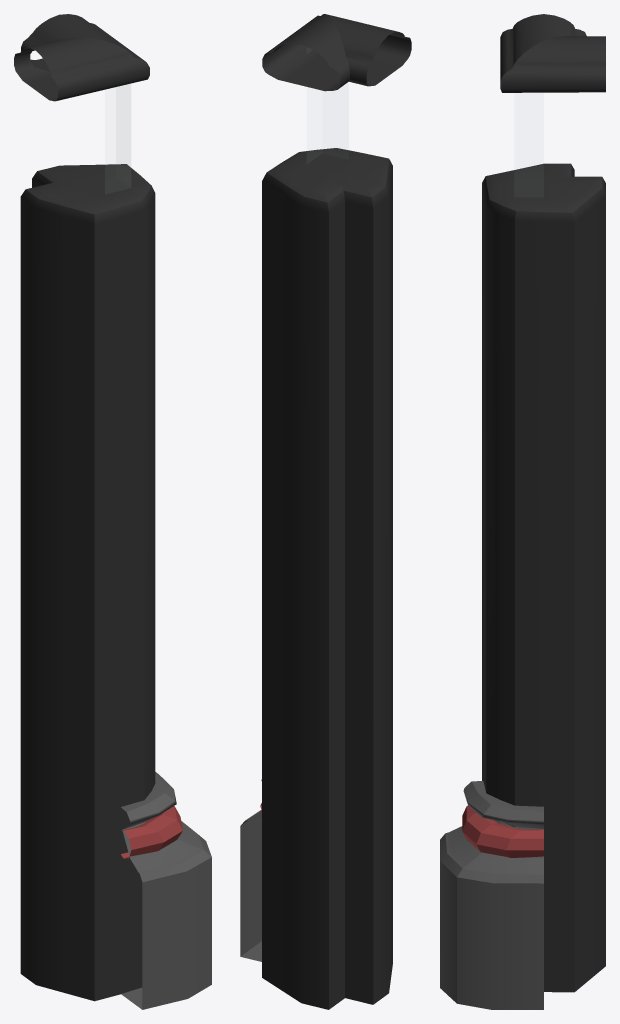
Rendered from BarrierCorner.fbx.
The picture shows the model from 3 angles, left to right: view 1: azimuth 30°, elevation 25°; view 2: azimuth 150°, elevation 25°; view 3: azimuth 270°, elevation 25°; orthographic projection. The views are drawn at different scales.
Visible parts, largest first — view 1: SideBars, Base, HandTrim, GlowRod, Glass; view 2: SideBars, HandTrim, Base; view 3: SideBars, Base, HandTrim, GlowRod.
Part boxes in pixels (left/top/right/bottom): SideBars: left=20, top=164, right=155, bottom=1001; Base: left=121, top=772, right=211, bottom=1009; HandTrim: left=14, top=14, right=149, bottom=101; GlowRod: left=121, top=806, right=182, bottom=858; Glass: left=116, top=84, right=130, bottom=186; SideBars: left=262, top=148, right=392, bottom=1009; HandTrim: left=262, top=14, right=411, bottom=91; Base: left=240, top=779, right=261, bottom=961; SideBars: left=482, top=163, right=605, bottom=992; Base: left=440, top=781, right=543, bottom=1009; HandTrim: left=500, top=14, right=605, bottom=92; GlowRod: left=462, top=805, right=543, bottom=857.
Bounding box in the file's own units: 0.6693 × 4.12 × 0.6693.
